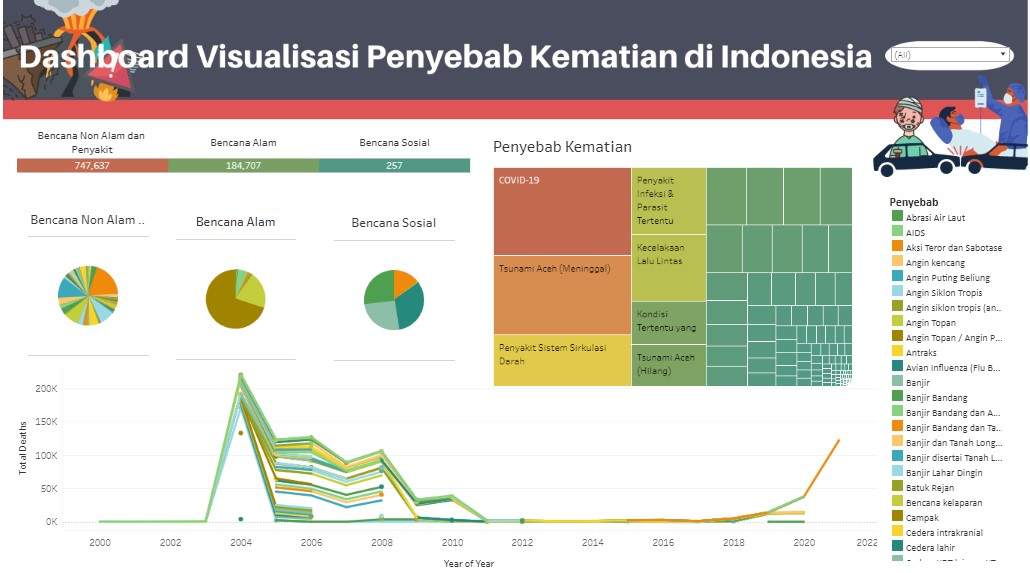

The dashboard page shown, as its layout file describes it:
{"tool":"tableau","page":{"name":"Dashboard 1","canvas":[1366,768],"ordinal":0},"visuals":[{"type":"image","param":"D:/TYA/TK3/SMT6/2. UAS/5. VisDat/Dashboard Visualisasi Penyebab Kematian di Indo","box":[0,0,1366,768]},{"type":"filter","title":"count death by type","param":"[federated.02km8jo091qk501avh7fg17jvble].[yr:Year:ok]","box":[1183,62,161,31]},{"type":"worksheet","title":"count death by type","mark":"Square","cols":["Type"],"box":[18,169,606,101]},{"type":"worksheet","title":"count cause of death","mark":"Automatic","box":[649,175,508,345]},{"type":"legend","title":"cause of death by year","param":"[federated.02km8jo091qk501avh7fg17jvble].[none:Cause:nk]","box":[1182,260,172,488]},{"type":"worksheet","title":"pie chart non alam+penyakit","mark":"Pie","cols":["Type"],"box":[33,270,181,281]},{"type":"worksheet","title":"pie chart bencana alam","mark":"Pie","cols":["Type"],"box":[231,271,181,275]},{"type":"worksheet","title":"pie chart bencana sosial","mark":"Pie","cols":["Type"],"box":[441,272,172,284]},{"type":"worksheet","title":"cause of death by year","mark":"Line","rows":["Total Deaths"],"cols":["Year"],"box":[10,488,1155,276]}]}

Visuals, with their boxes in screenshot pixels (x1, y1, x2, y2), scaled from the page's 1366x768 canvas onto the 1030x573 screenshot:
image: bbox=(0, 0, 1029, 572)
"count death by type" filter: bbox=(892, 46, 1013, 69)
"count death by type" worksheet (Square marks): bbox=(14, 126, 471, 201)
"count cause of death" worksheet: bbox=(489, 131, 872, 388)
"cause of death by year" legend: bbox=(891, 194, 1021, 558)
"pie chart non alam+penyakit" worksheet (Pie marks): bbox=(25, 201, 161, 411)
"pie chart bencana alam" worksheet (Pie marks): bbox=(174, 202, 311, 407)
"pie chart bencana sosial" worksheet (Pie marks): bbox=(333, 203, 462, 415)
"cause of death by year" worksheet (Line marks): bbox=(8, 364, 878, 570)
